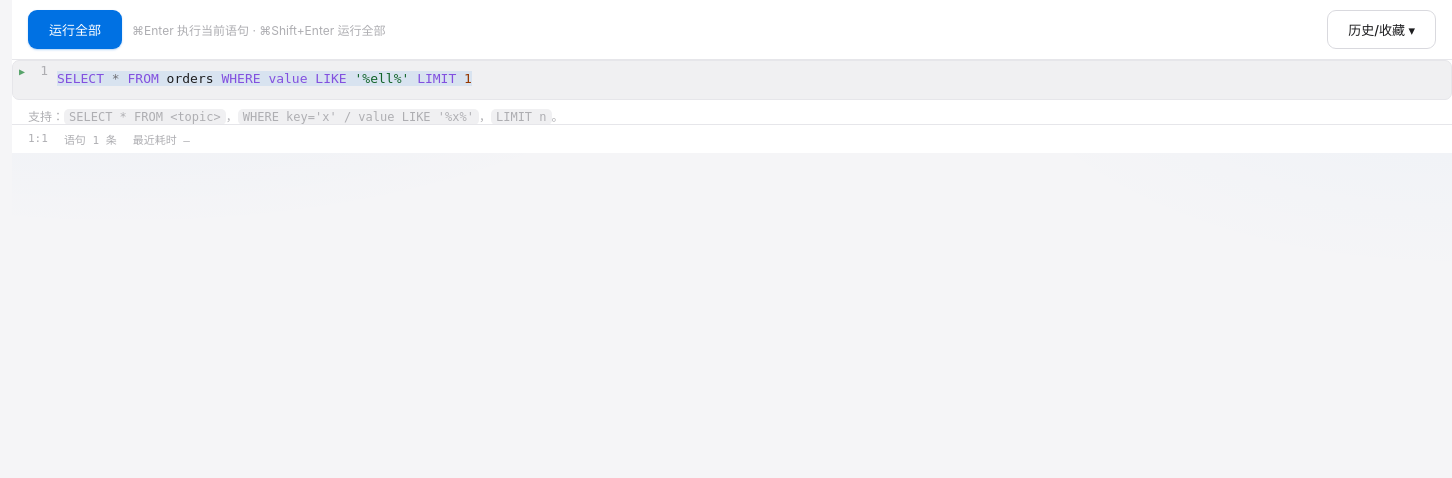
Test: SqlConsole › applies a LIKE filter and LIMIT
Click the button with test id "btn-run": (75, 30) x1=28 y1=10 x2=122 y2=49
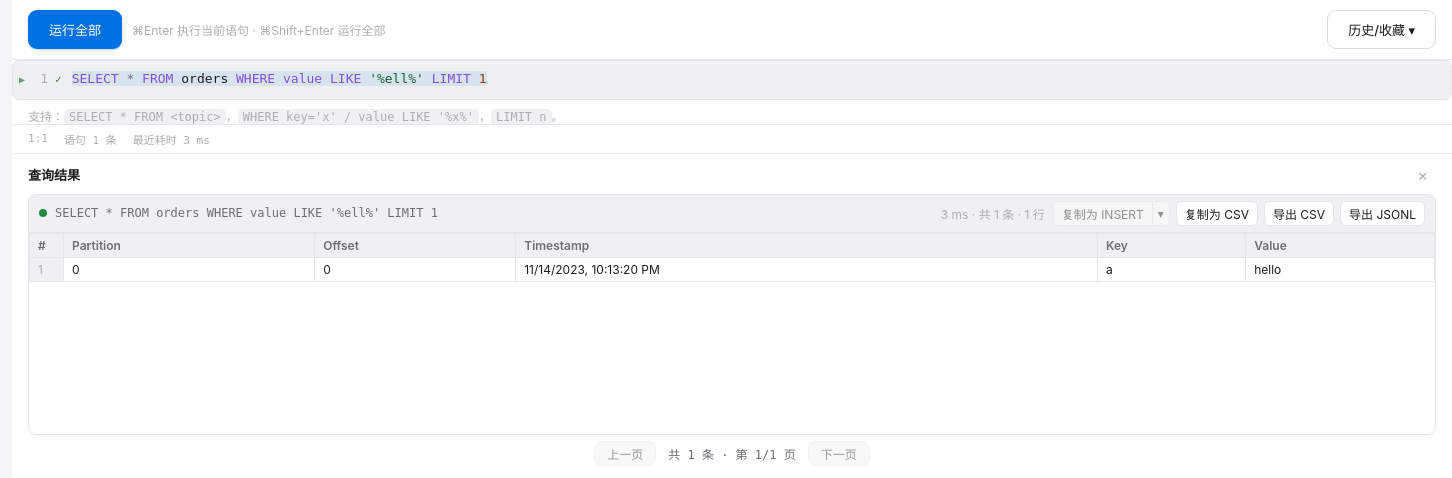
Result: the cell "hello" is shown at x1=1246 y1=257 x2=1434 y2=281
